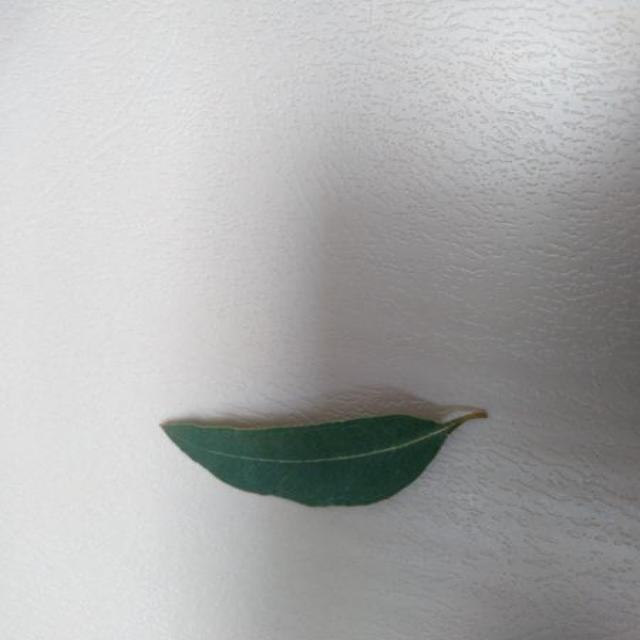eucalpytus: (162, 409, 487, 506), (162, 410, 487, 506)
